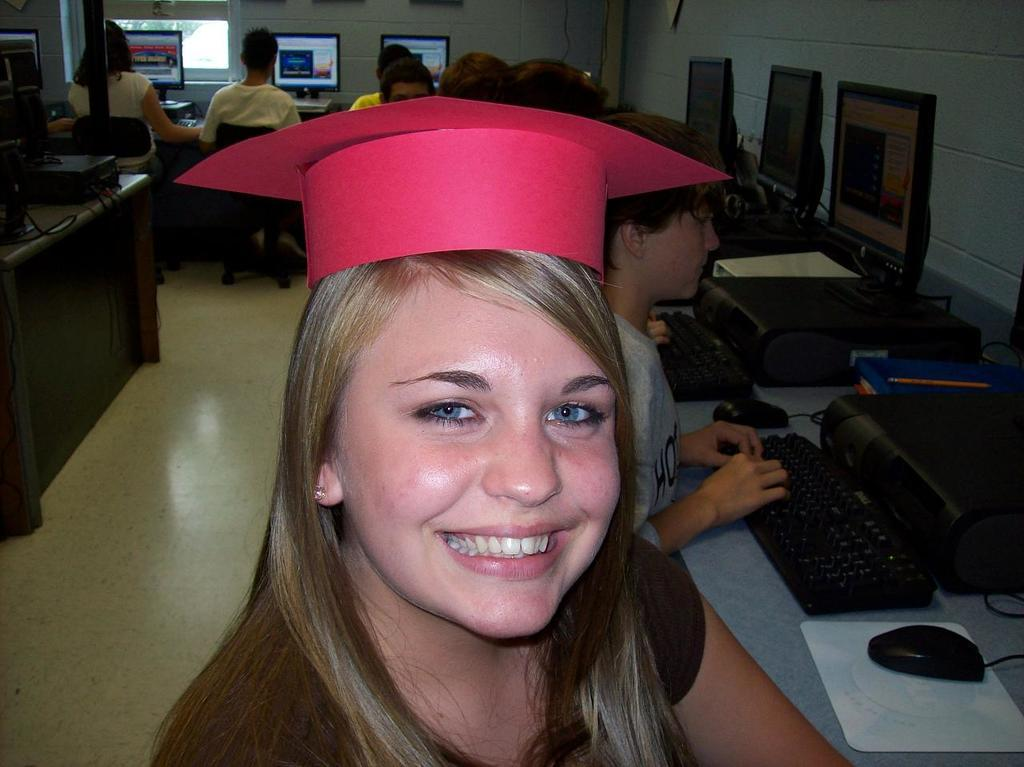Hat: (172, 96, 728, 288)
